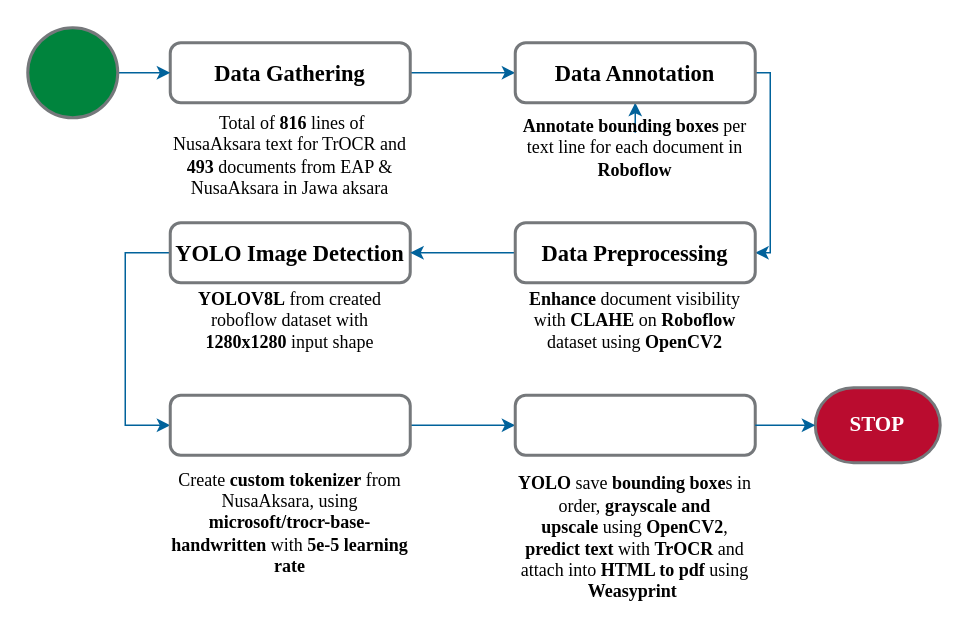
Some shapes in this 968 by 627 pixel diagram are drawn without their labels. The shapes that lost their labels are listed below. From the top down, each one's centre as x and y in pixels, then its label:
At point 72,72: "START".
At point 289,424: "TrOCR Image Transcription".
At point 634,424: "Generate PDF".
